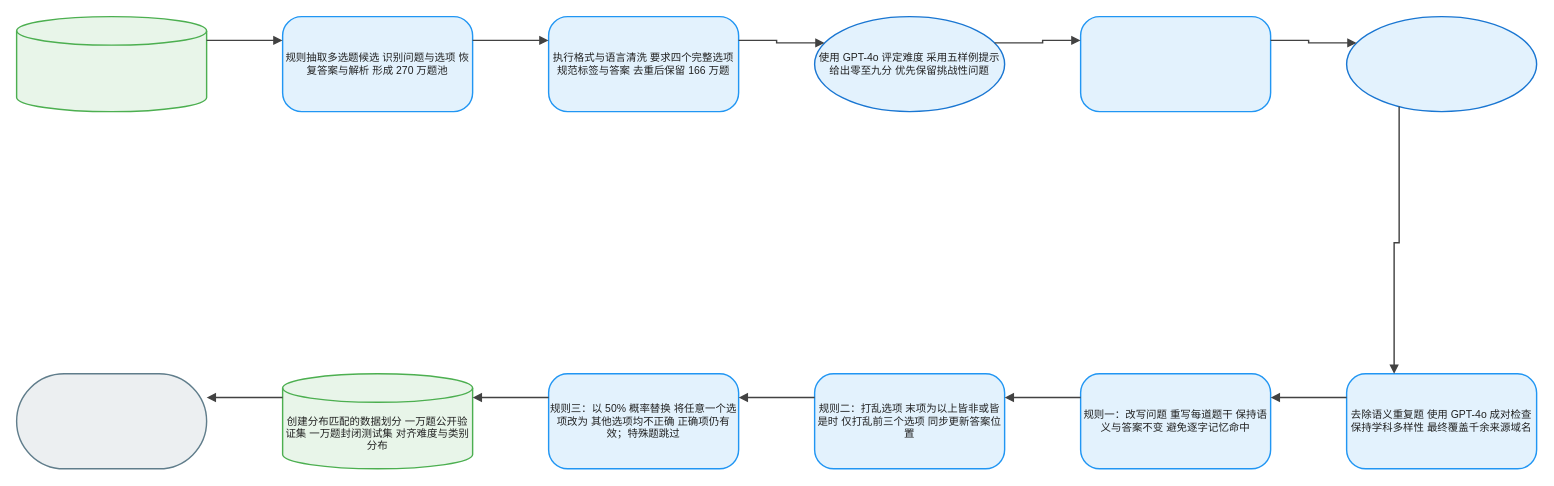
Image size: 1554x486. Some labels were removed from this diagram. The centre of each missing label's shape, as x and y in pixels:
"三模型联合检查 GPT-4o · Gemini · Claude 评价质量与无害性 平均分高于四分才保留" goes at (1441,63).
"平衡抽样五万题 难度分布以六分为中心 平衡类别与来源域名 优先带解析的题目" goes at (1175,63).
"抓取公共网页文档 超过 2,000 亿份网页 来自 3,000 多个域名 抽取 14 项数据字段" goes at (111,63).
"评测语言模型 运行零样本与五样本 解析模型选择的选项 报告精确准确率" goes at (111,421).
